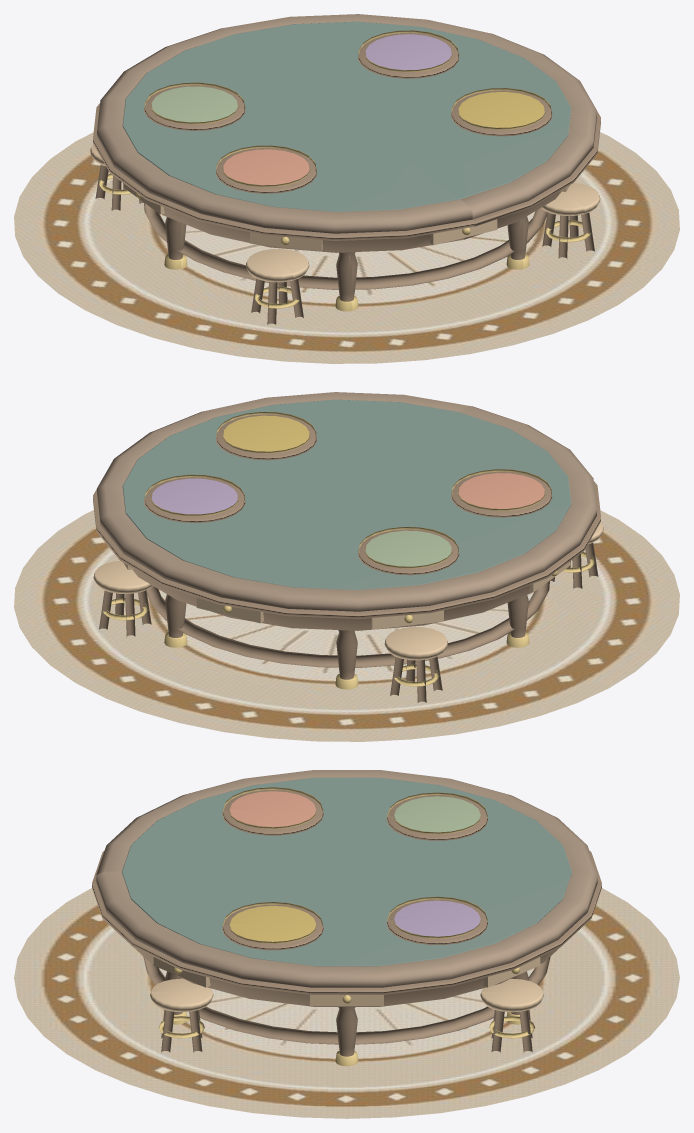
The model's file is central_workbench.glb.
3 views of the same model, one above another, from view 1: azimuth 30°, elevation 25°; view 2: azimuth 150°, elevation 25°; view 3: azimuth 270°, elevation 25° (orthographic).
Parts seen in each view (by area): view 1: Workbench_And_Stools, Workbench_Leather_Inlay, Workbench_Tabletop_Rim, Component_Tray_Pads; view 2: Workbench_And_Stools, Workbench_Leather_Inlay, Workbench_Tabletop_Rim, Component_Tray_Pads; view 3: Workbench_And_Stools, Workbench_Leather_Inlay, Workbench_Tabletop_Rim, Component_Tray_Pads.
Part boxes in pixels (x1=…): Workbench_And_Stools: x1=14, y1=103, x2=679, y2=363; Workbench_Leather_Inlay: x1=122, y1=21, x2=571, y2=211; Workbench_Tabletop_Rim: x1=97, y1=14, x2=596, y2=233; Component_Tray_Pads: x1=144, y1=30, x2=552, y2=193; Workbench_And_Stools: x1=14, y1=481, x2=679, y2=741; Workbench_Leather_Inlay: x1=122, y1=399, x2=571, y2=589; Workbench_Tabletop_Rim: x1=97, y1=392, x2=596, y2=611; Component_Tray_Pads: x1=144, y1=412, x2=552, y2=575; Workbench_And_Stools: x1=14, y1=850, x2=679, y2=1118; Workbench_Leather_Inlay: x1=122, y1=777, x2=571, y2=966; Workbench_Tabletop_Rim: x1=96, y1=770, x2=597, y2=987; Component_Tray_Pads: x1=222, y1=787, x2=488, y2=950.
Bounding box in the file's own units: 3.24 × 0.63 × 3.24.
Materials: 10 (1 with a texture image).
